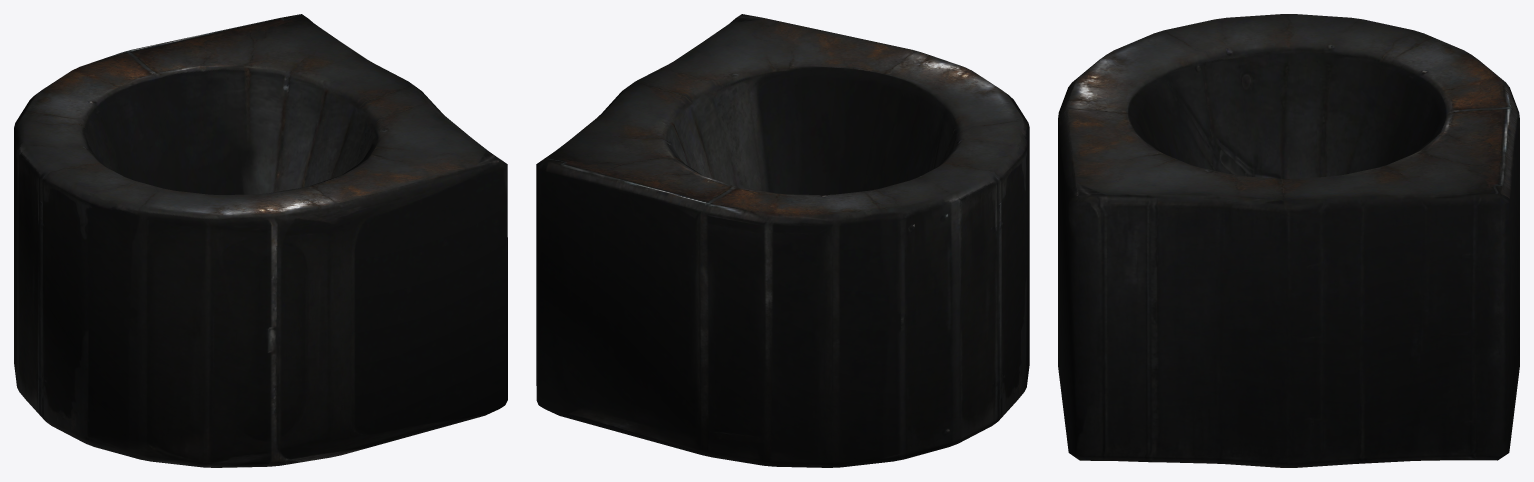
File: _0609200400_texture.fbx
The picture shows the model from 3 angles, left to right: view 1: azimuth 30°, elevation 25°; view 2: azimuth 150°, elevation 25°; view 3: azimuth 270°, elevation 25°; orthographic projection. The views are drawn at different scales.
Parts seen in each view (by area): view 1: pCylinder3; view 2: pCylinder3; view 3: pCylinder3.
Part boxes in pixels (<box>): pCylinder3: <box>14,14,507,467</box>; pCylinder3: <box>536,14,1029,467</box>; pCylinder3: <box>1058,14,1519,467</box>.
Size of the model in its own units: 199 by 143 by 200.
Materials: 1 (1 with a texture image).
